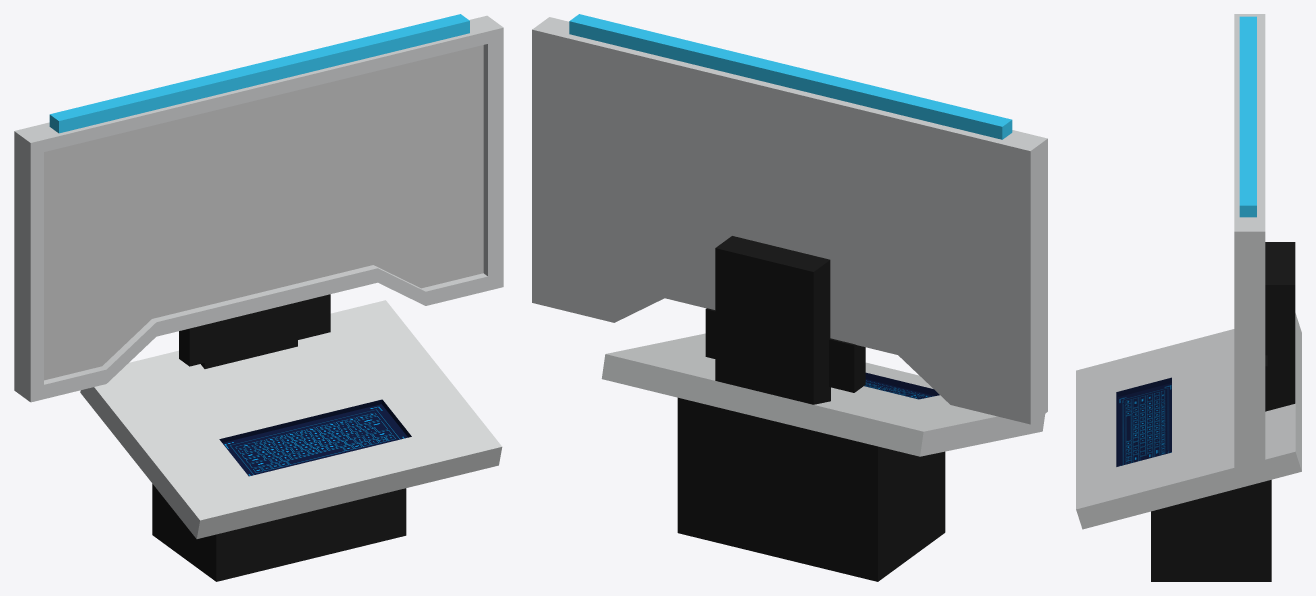
File: monitor.fbx
3 renders of one model, left to right at view 1: azimuth 30°, elevation 25°; view 2: azimuth 150°, elevation 25°; view 3: azimuth 270°, elevation 25°, orthographic. The views are drawn at different scales.
Visible parts, largest first — view 1: pCube1, pCube5, pCube6, pCube2, pCube4, pCube3; view 2: pCube1, pCube6, pCube5, pCube3, pCube2, pCube4; view 3: pCube5, pCube1, pCube6, pCube3, pCube2.
Boxes of the visible parts, x1,y1,x2,y2 form: pCube1: (14, 15, 503, 402); pCube5: (80, 300, 502, 538); pCube6: (152, 484, 406, 581); pCube2: (49, 14, 469, 133); pCube4: (179, 294, 330, 366); pCube3: (201, 340, 297, 368); pCube1: (532, 17, 1047, 424); pCube6: (677, 397, 945, 581); pCube5: (601, 333, 1045, 456); pCube3: (715, 236, 830, 404); pCube2: (569, 14, 1012, 139); pCube4: (705, 308, 865, 392); pCube5: (1076, 313, 1301, 529); pCube1: (1234, 14, 1265, 475); pCube6: (1151, 480, 1271, 581); pCube3: (1265, 242, 1295, 411); pCube2: (1239, 16, 1256, 217).
Size of the model in its own units: 7.55 by 6.92 by 3.32.
